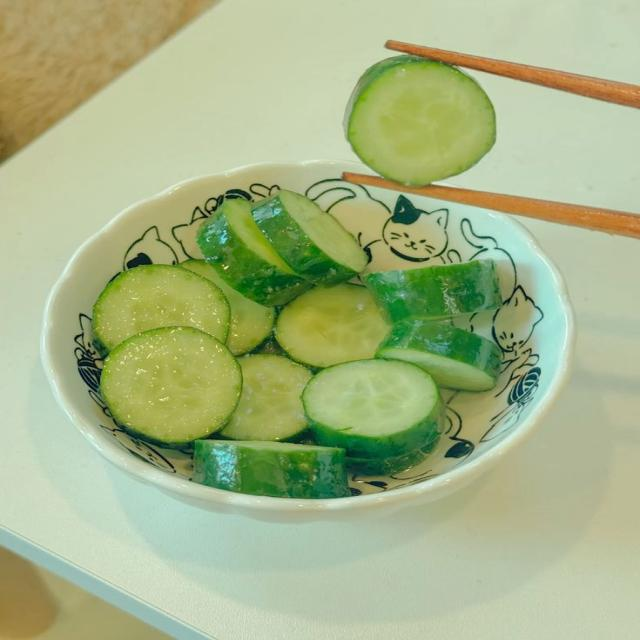cucumber sliced: (345, 56, 495, 186), (101, 327, 242, 446), (303, 360, 443, 458), (197, 199, 310, 306), (93, 265, 229, 350), (252, 190, 367, 285), (275, 283, 389, 367), (194, 440, 350, 498), (377, 320, 501, 391), (181, 260, 274, 354), (363, 261, 501, 322), (220, 355, 311, 440), (347, 434, 439, 476), (252, 338, 284, 355)
